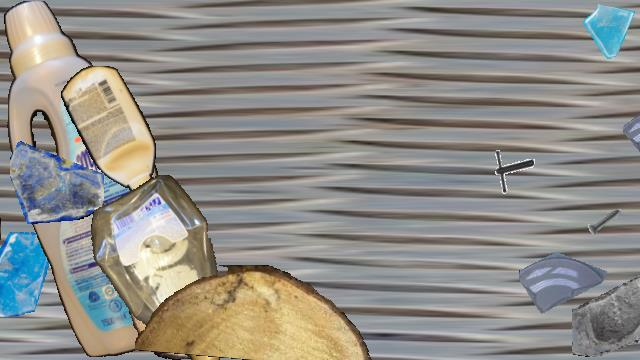glass: (10, 130, 104, 224), (519, 234, 607, 322), (572, 271, 640, 359), (0, 232, 57, 316), (582, 1, 640, 59), (623, 91, 640, 163)
metal: (125, 150, 187, 212), (486, 147, 534, 195), (584, 201, 626, 243)
plastic: (2, 1, 206, 357), (86, 175, 232, 359), (61, 66, 155, 194), (0, 192, 1, 264)
wood: (135, 265, 375, 359), (127, 253, 203, 359)
